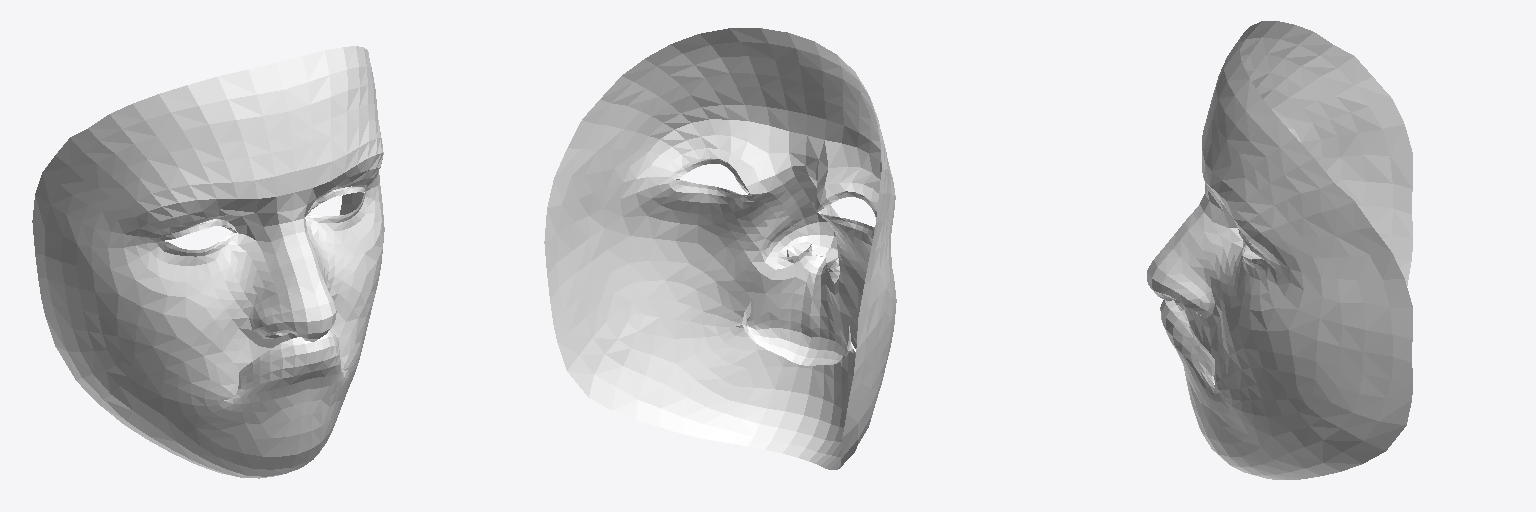
Rendered from mouthClose.obj.
The picture shows the model from 3 angles: view 1: azimuth 30°, elevation 25°; view 2: azimuth 150°, elevation 25°; view 3: azimuth 270°, elevation 25°; orthographic projection.
Visible parts, largest first — view 1: default; view 2: default; view 3: default.
Part boxes in pixels (x1,y1,x2,y2): default: (32,46,384,478); default: (544,28,896,469); default: (1147,21,1412,479).
Size of the model in its own units: 0.1447 by 0.1817 by 0.1055.